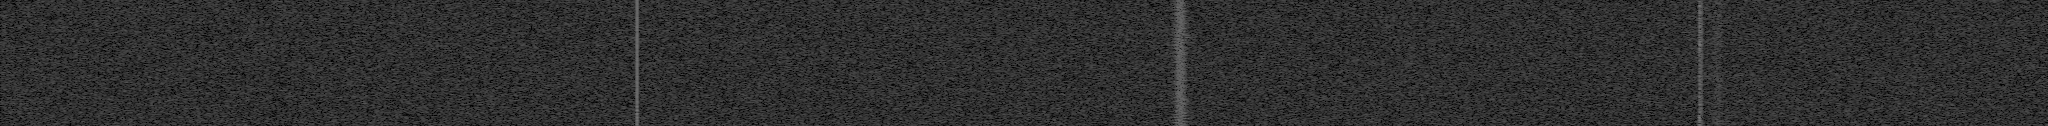wv_am: (633, 0, 640, 126)
wv_cw: (1699, 0, 1704, 119), (1699, 119, 1704, 126)
wv_usb: (1697, 0, 1703, 113), (1697, 115, 1703, 126)
wv_wbfm: (1168, 0, 1194, 126), (1708, 0, 1727, 126)
